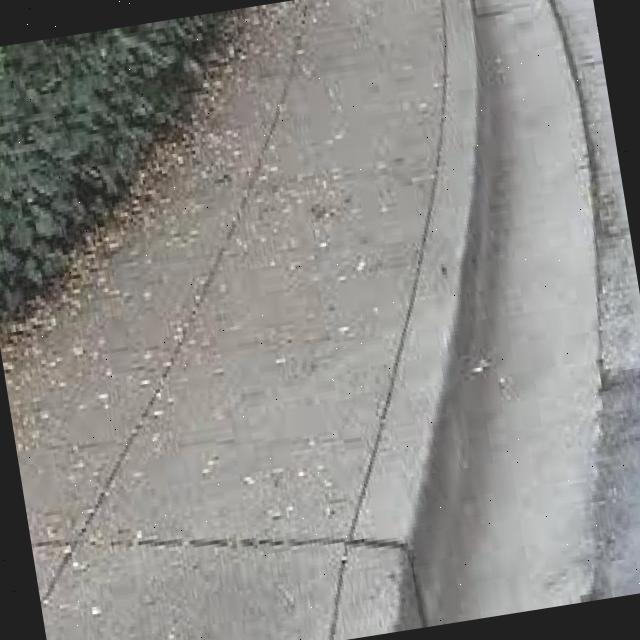curb: (327, 1, 494, 640)
